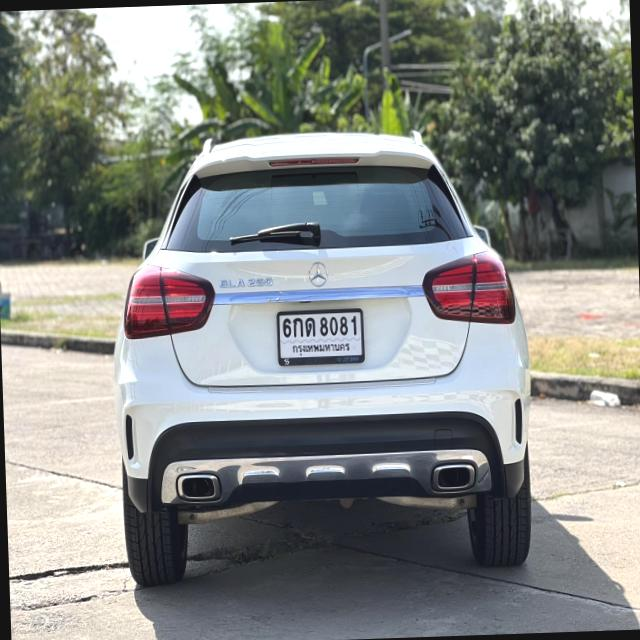license_plate: (276, 306, 367, 370)
